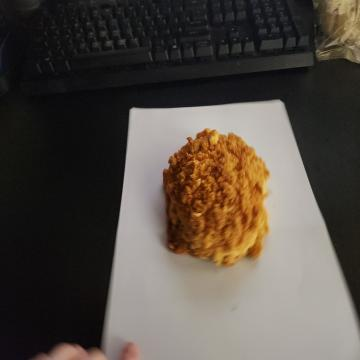soboru_bread: (163, 125, 274, 268)
